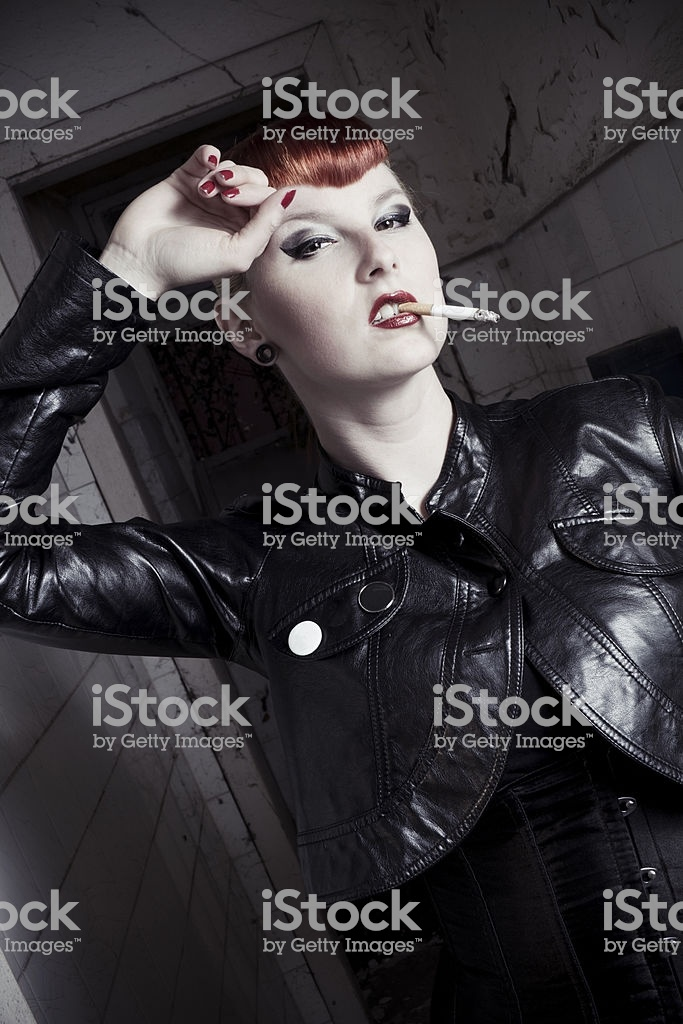sigaretta: (389, 288, 502, 335)
